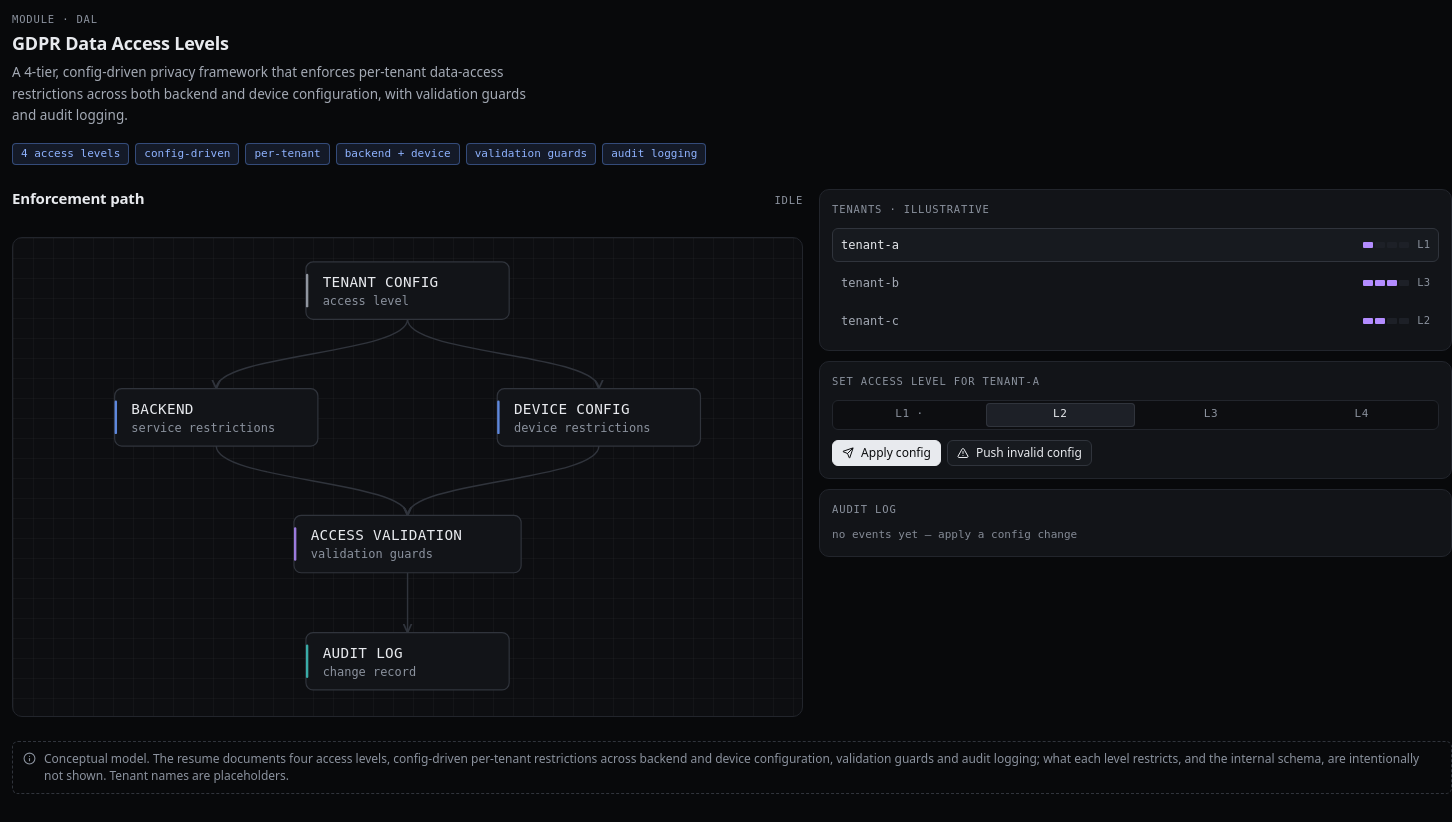
Test case: DAL console › applies a level through the enforcement path and audits it; rejects invalid config
The width and height of the screenshot is (1452, 822).
Click the radio button labelled "tenant-b L3": (870, 283) left=832, top=266, right=1439, bottom=300
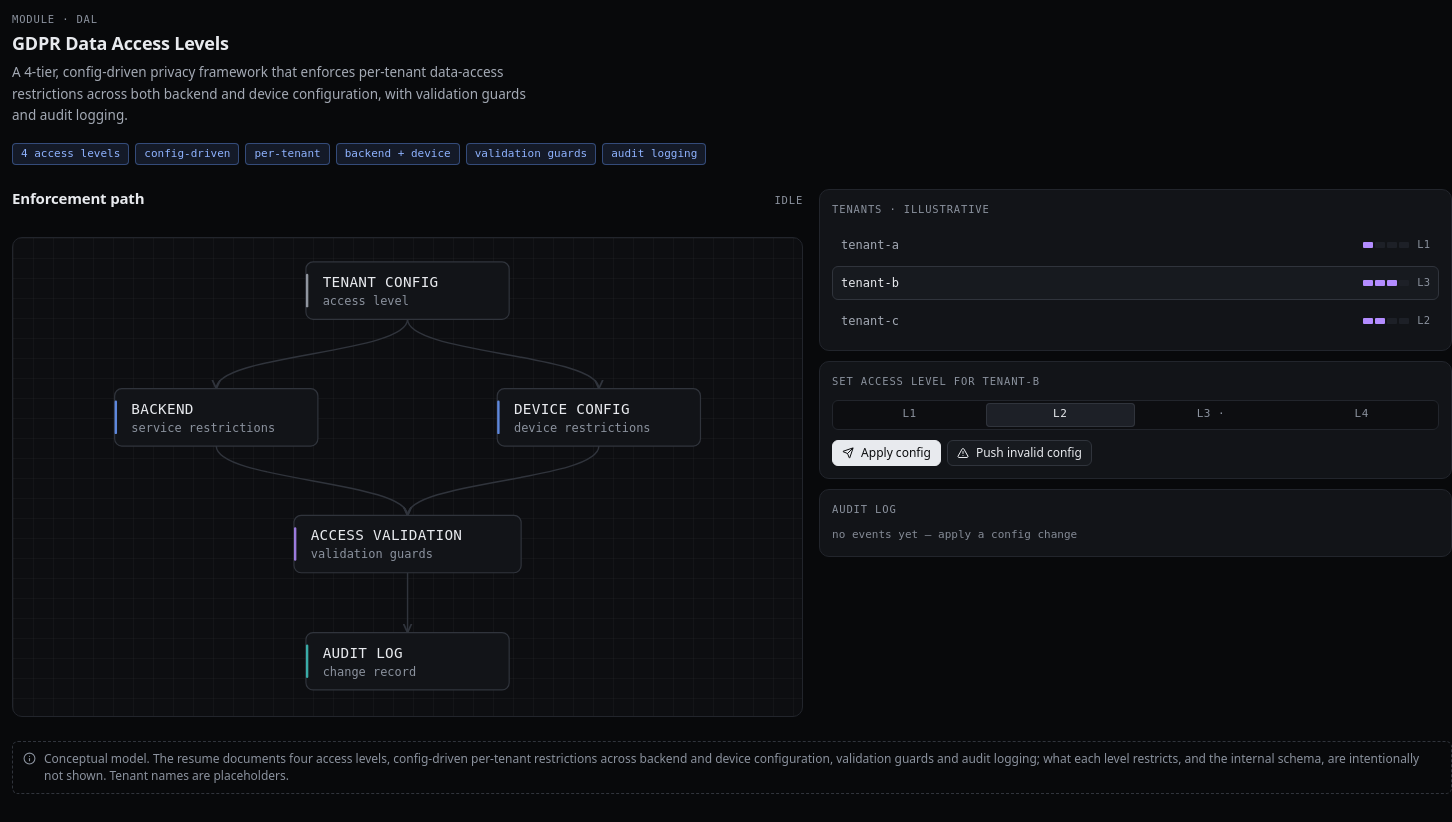
Click the radio button labelled "L4": (1362, 414) left=1287, top=402, right=1436, bottom=426
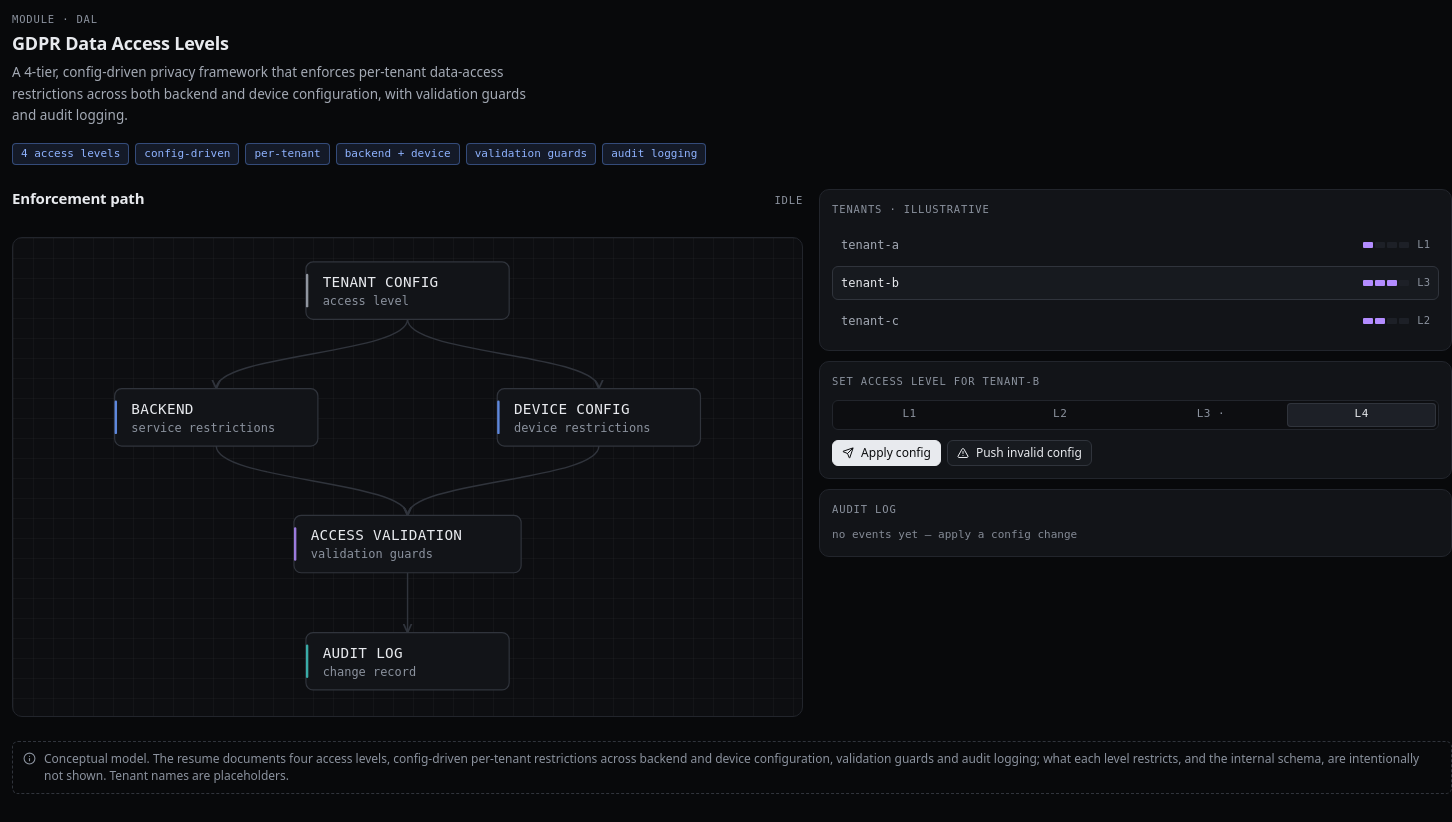
Click the button "Apply config": (886, 452) left=832, top=440, right=941, bottom=466
Wait 1600 ms
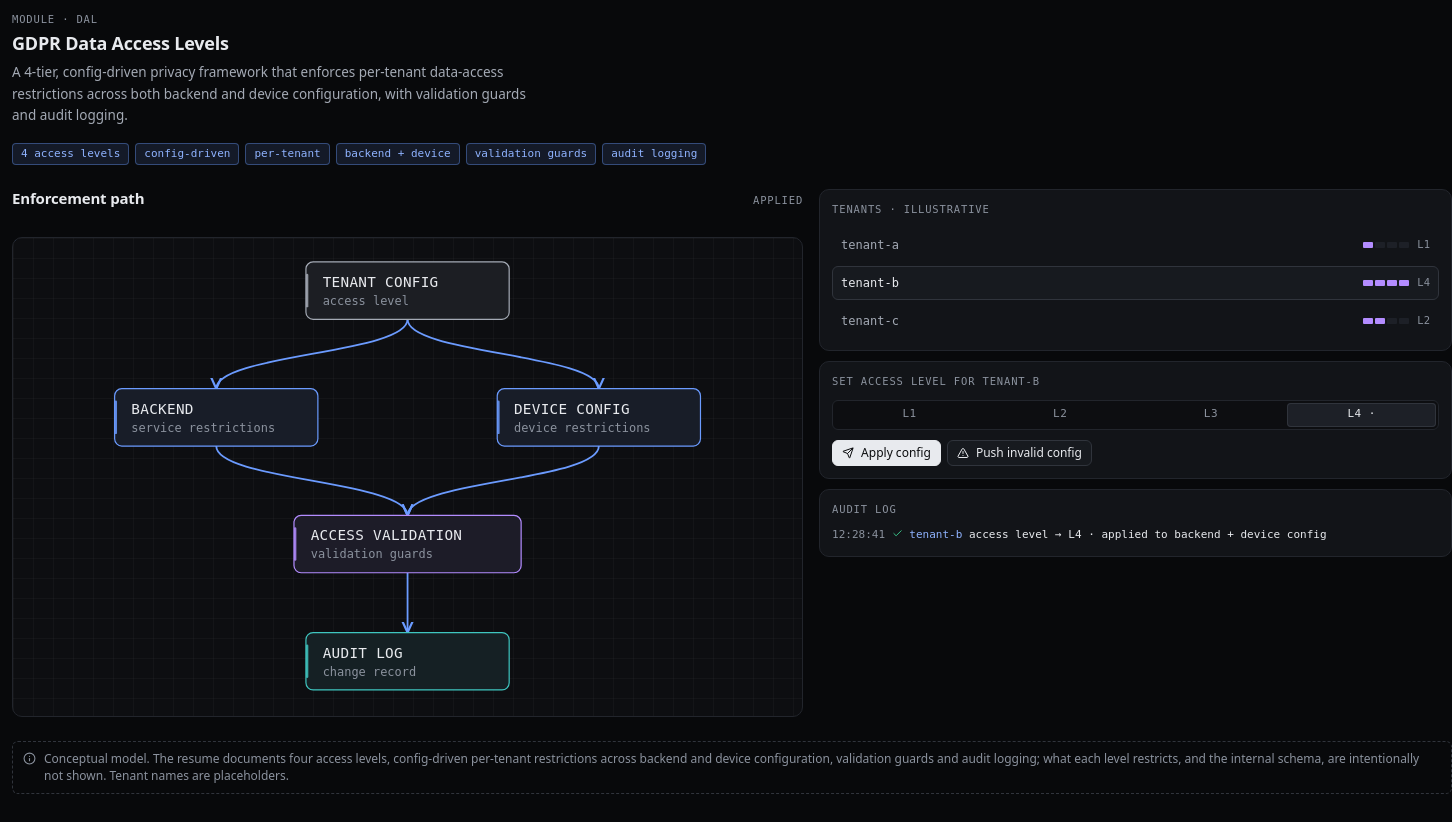
Expected: the radio button labelled "tenant-b L4" is shown, left=832, top=266, right=1439, bottom=300
Expected: the text "access level → L4 · applied to backend + device config" is shown, left=969, top=528, right=1327, bottom=541
Click the button "Push invalid config": (1019, 452) left=947, top=440, right=1092, bottom=466
Wait 1300 ms
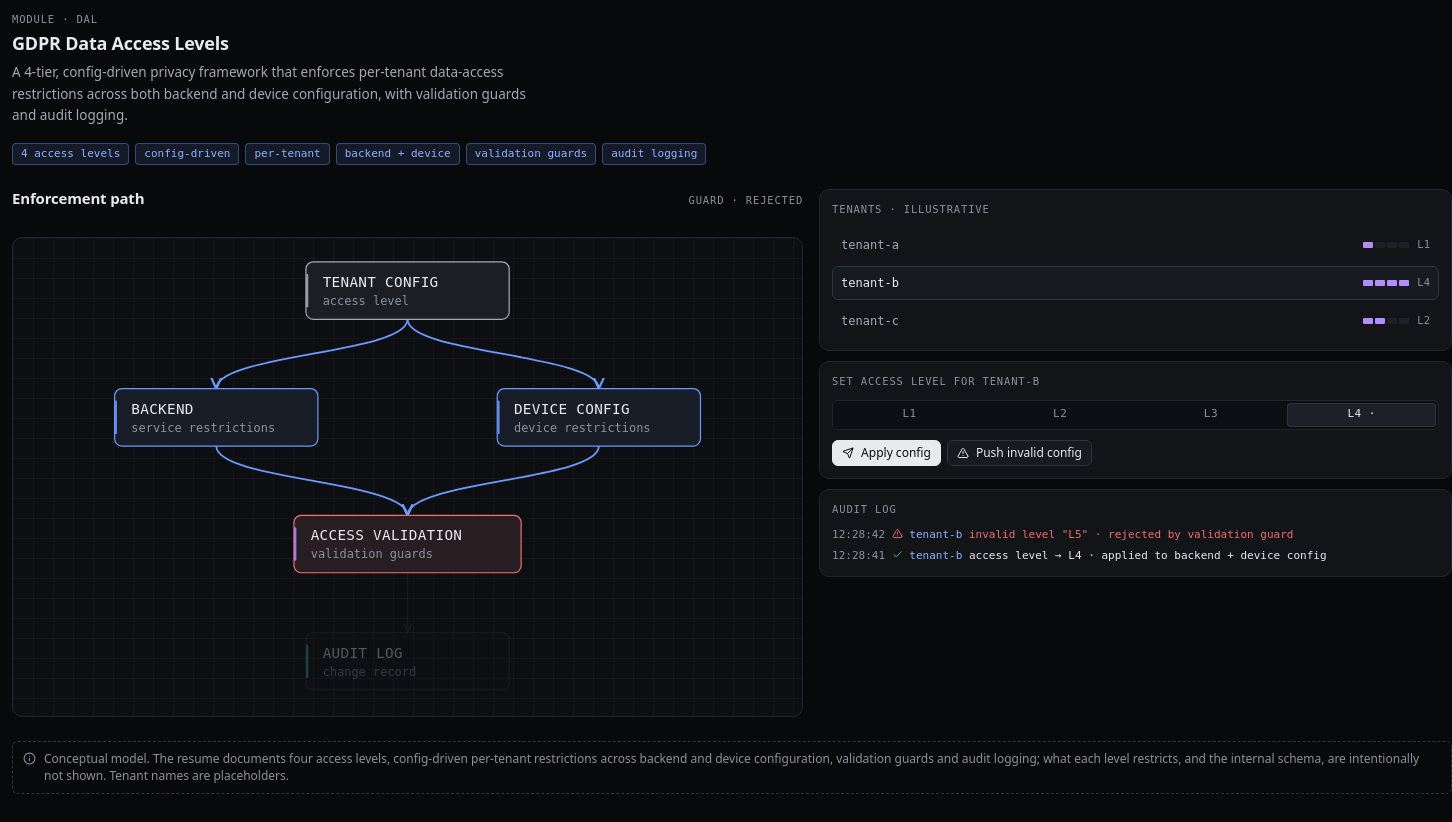
Expected: the text "invalid level \"L5\" · rejected by validation guard" is shown, left=969, top=528, right=1294, bottom=541
Expected: the text "guard · rejected" is shown, left=688, top=193, right=803, bottom=209
